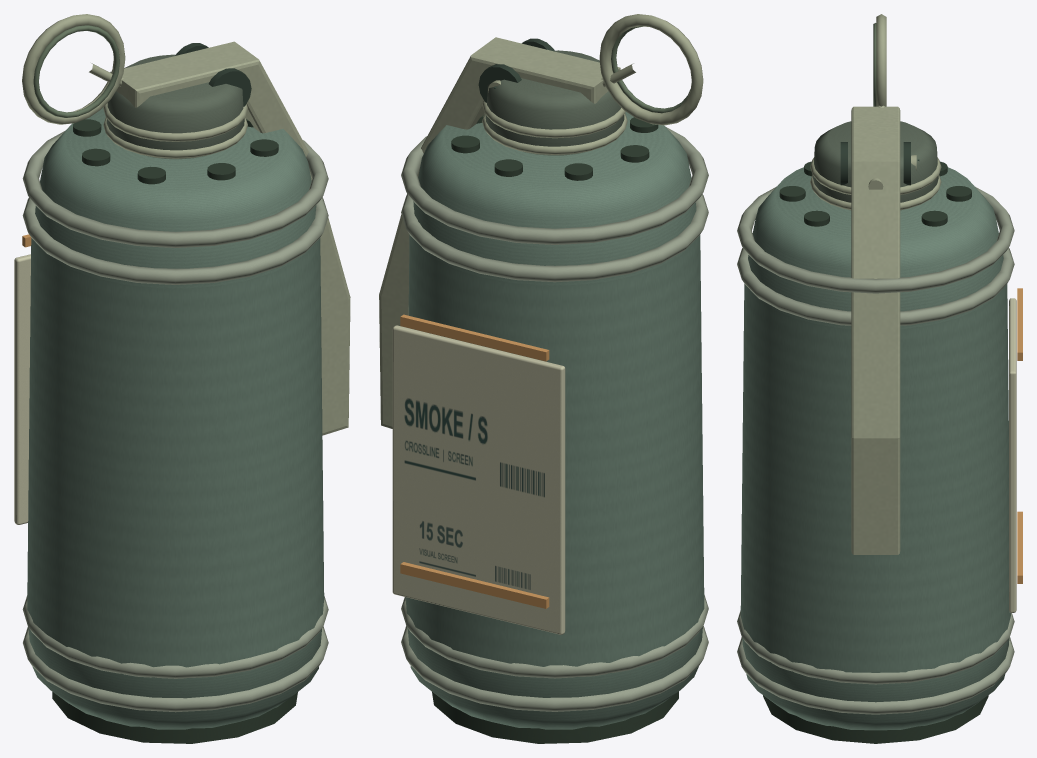
File: smoke.glb
3 views of the same model, side by side, from view 1: azimuth 30°, elevation 25°; view 2: azimuth 150°, elevation 25°; view 3: azimuth 270°, elevation 25° (orthographic). The views are drawn at different scales.
Parts seen in each view (by area): view 1: smoke, spoon, pullRing; view 2: smoke, spoon, pullRing; view 3: smoke, spoon, pullRing.
Boxes of the visible parts, x1,y1,x2,y2 form: smoke: (14,43,328,743); spoon: (110,41,350,435); pullRing: (22,14,125,124); smoke: (392,38,708,743); spoon: (379,37,620,428); pullRing: (599,14,703,125); smoke: (737,121,1022,743); spoon: (851,106,900,554); pullRing: (873,14,886,107).
Size of the model in its own units: 0.1772 by 0.3777 by 0.1545.
12 materials, 9 textured.
